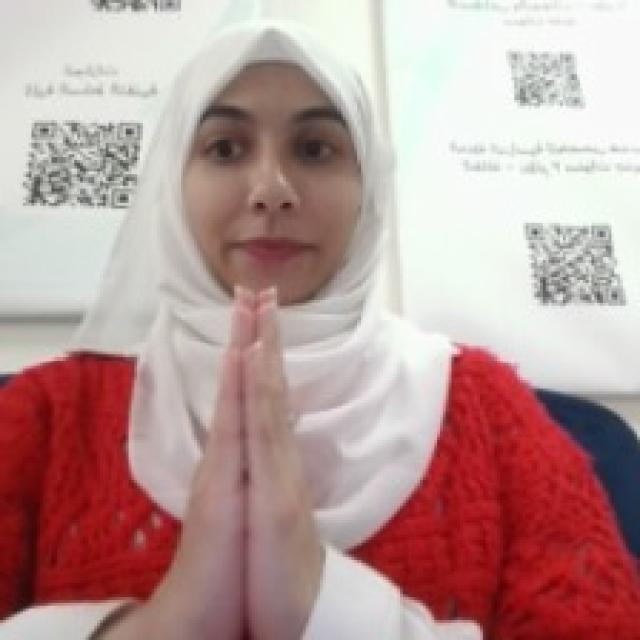sorry: (168, 292, 326, 637)
